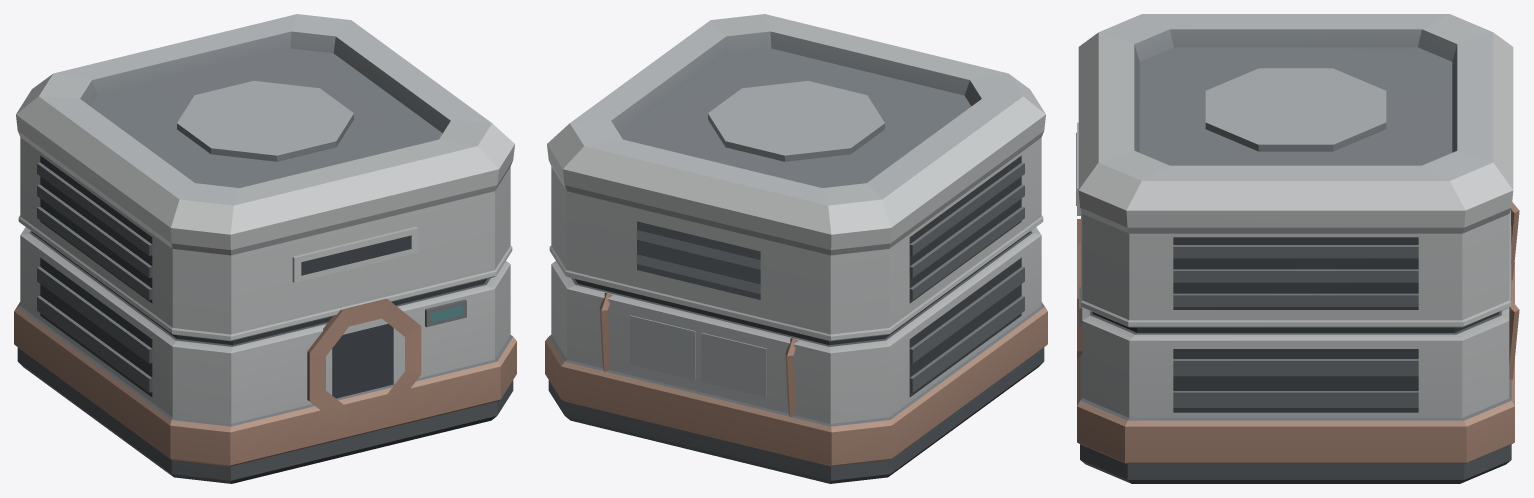
Rendered from reactor.lod2.glb.
The picture shows the model from 3 angles, left to right: view 1: azimuth 30°, elevation 25°; view 2: azimuth 150°, elevation 25°; view 3: azimuth 270°, elevation 25°; orthographic projection. The views are drawn at different scales.
Size of the model in its own units: 11.2 by 8.4 by 11.33.
